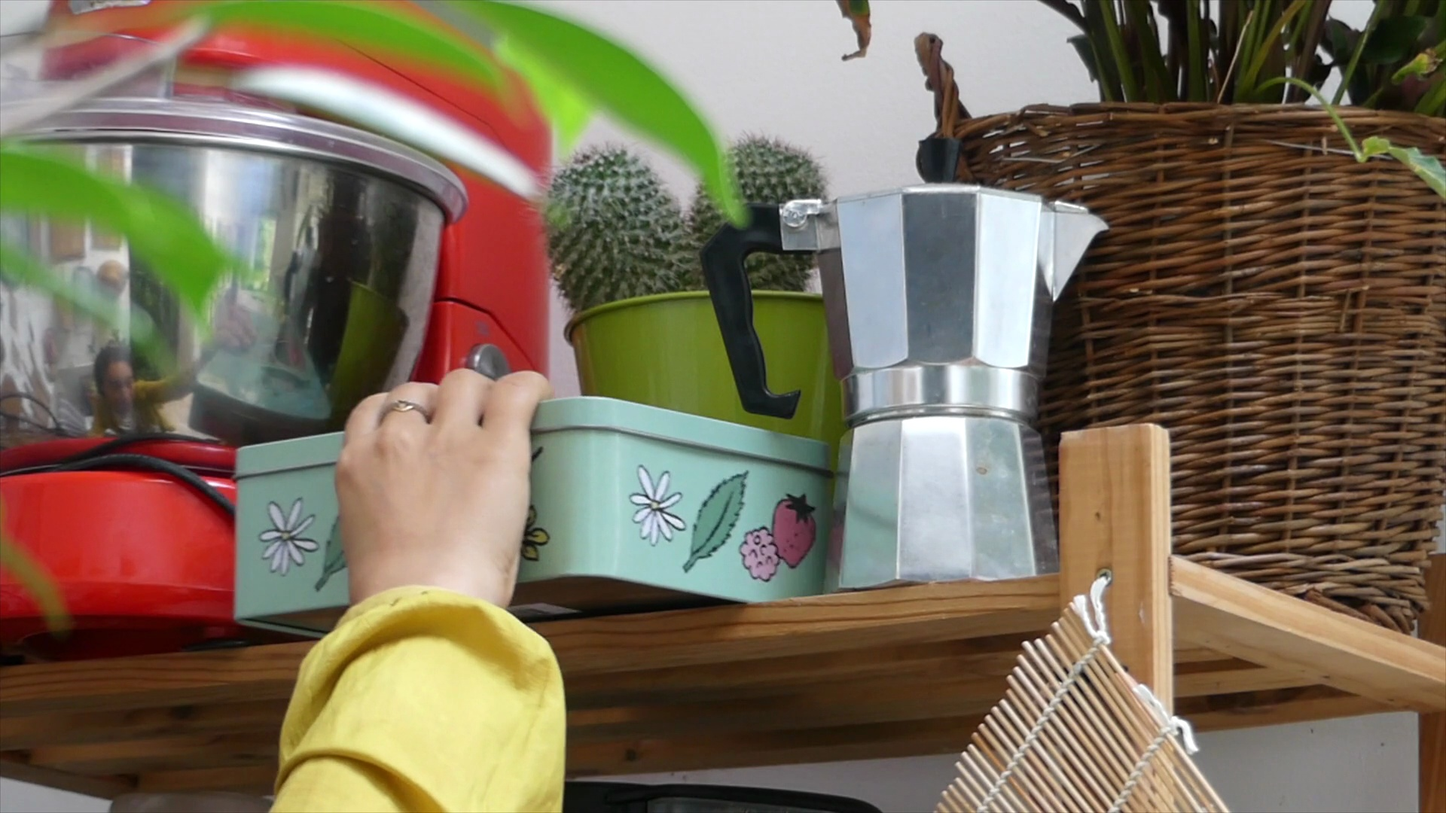dallah: (160, 257, 834, 813)
dates_box: (676, 160, 1343, 610), (717, 185, 982, 410)
electronics: (946, 0, 1446, 813), (445, 192, 975, 813), (894, 0, 1446, 569), (1, 109, 387, 813), (0, 388, 452, 813), (1, 175, 276, 813), (797, 388, 1194, 813), (0, 408, 332, 813), (224, 396, 356, 633)
perfume_bottle: (0, 0, 646, 521), (716, 183, 854, 428)
watch: (8, 70, 738, 813), (178, 82, 703, 813), (835, 0, 1334, 573), (1018, 219, 1445, 813), (938, 366, 1446, 813), (738, 0, 1237, 439), (885, 586, 1273, 813), (918, 598, 1200, 813), (921, 647, 1272, 813), (877, 652, 1143, 813), (887, 751, 1056, 813)
